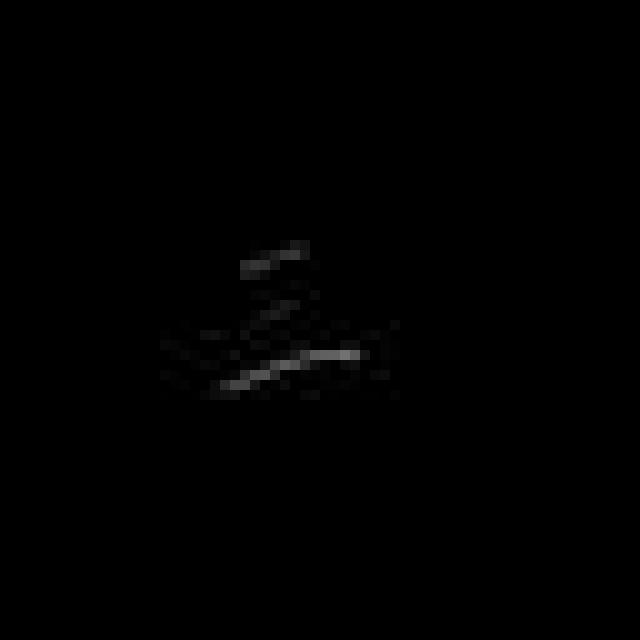3 -three-: (214, 233, 382, 404)
